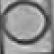no answer: (2, 2, 50, 45)
